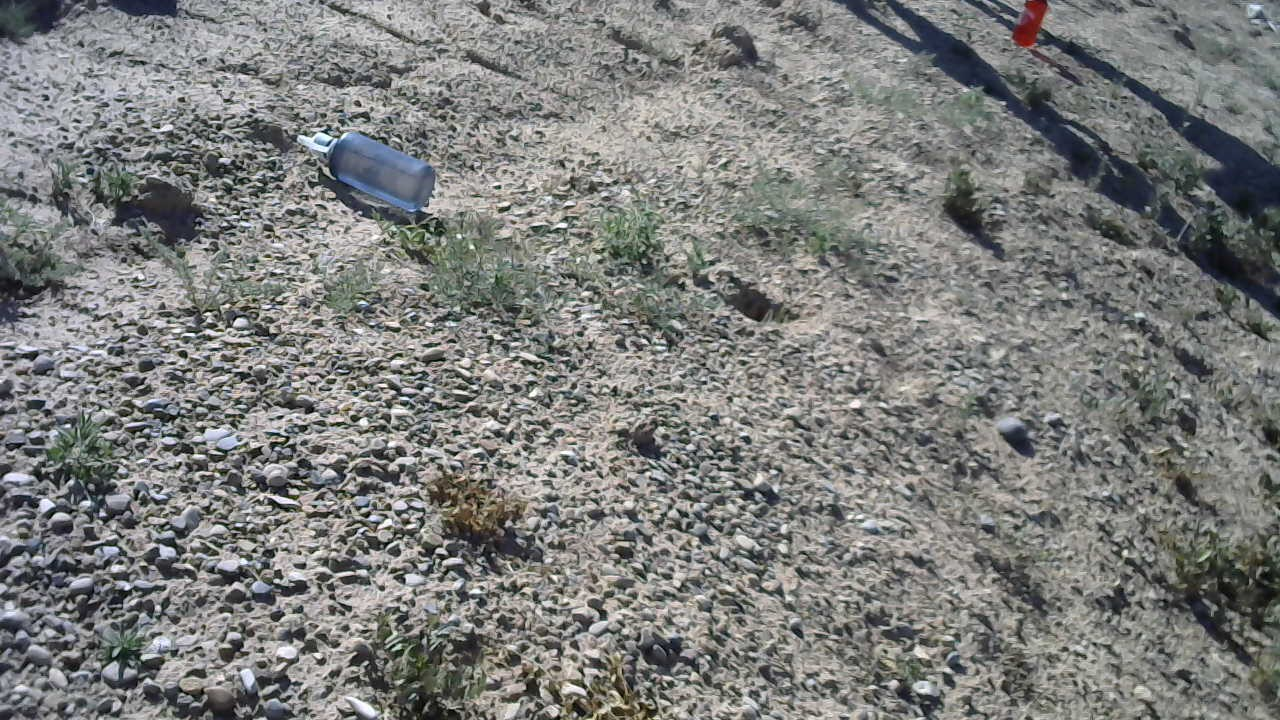bottle: (290, 122, 441, 216), (999, 0, 1055, 48)
